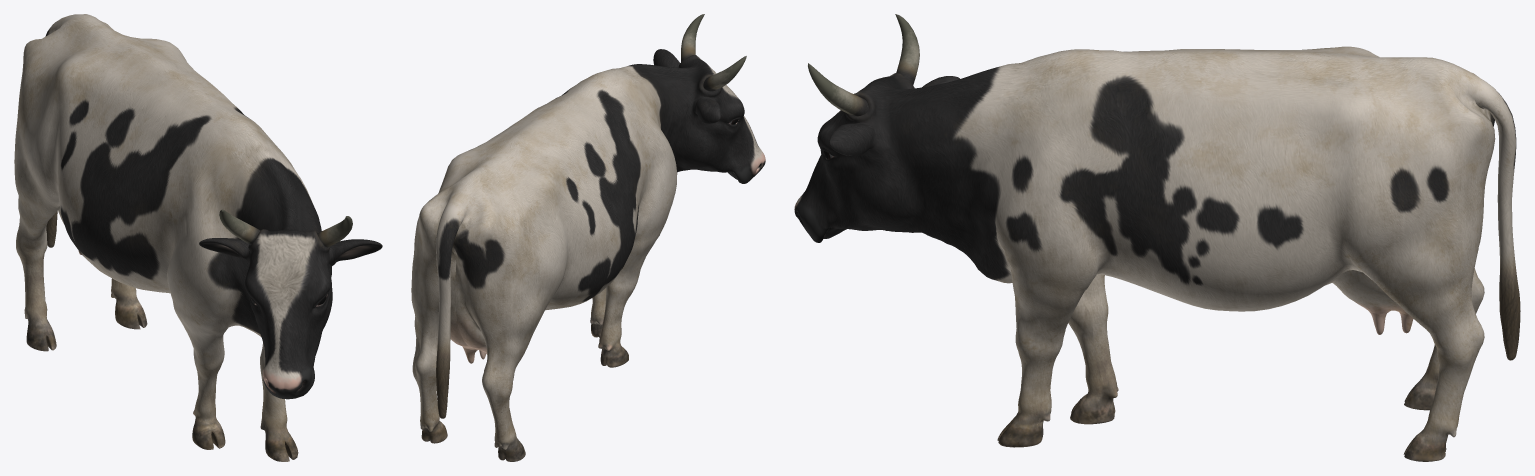
File: cow.glb
3 renders of one model, left to right at view 1: azimuth 30°, elevation 25°; view 2: azimuth 150°, elevation 25°; view 3: azimuth 270°, elevation 25°, orthographic. The views are drawn at different scales.
Visible parts, largest first — view 1: Sketchfab_model; view 2: Sketchfab_model; view 3: Sketchfab_model.
Boxes of the visible parts, <box> form: Sketchfab_model: <box>14,14,382,461</box>; Sketchfab_model: <box>411,14,765,461</box>; Sketchfab_model: <box>794,14,1520,461</box>.
Size of the model in its own units: 0.0187 by 0.0321 by 0.0559.
Materials: 1 (1 with a texture image).
